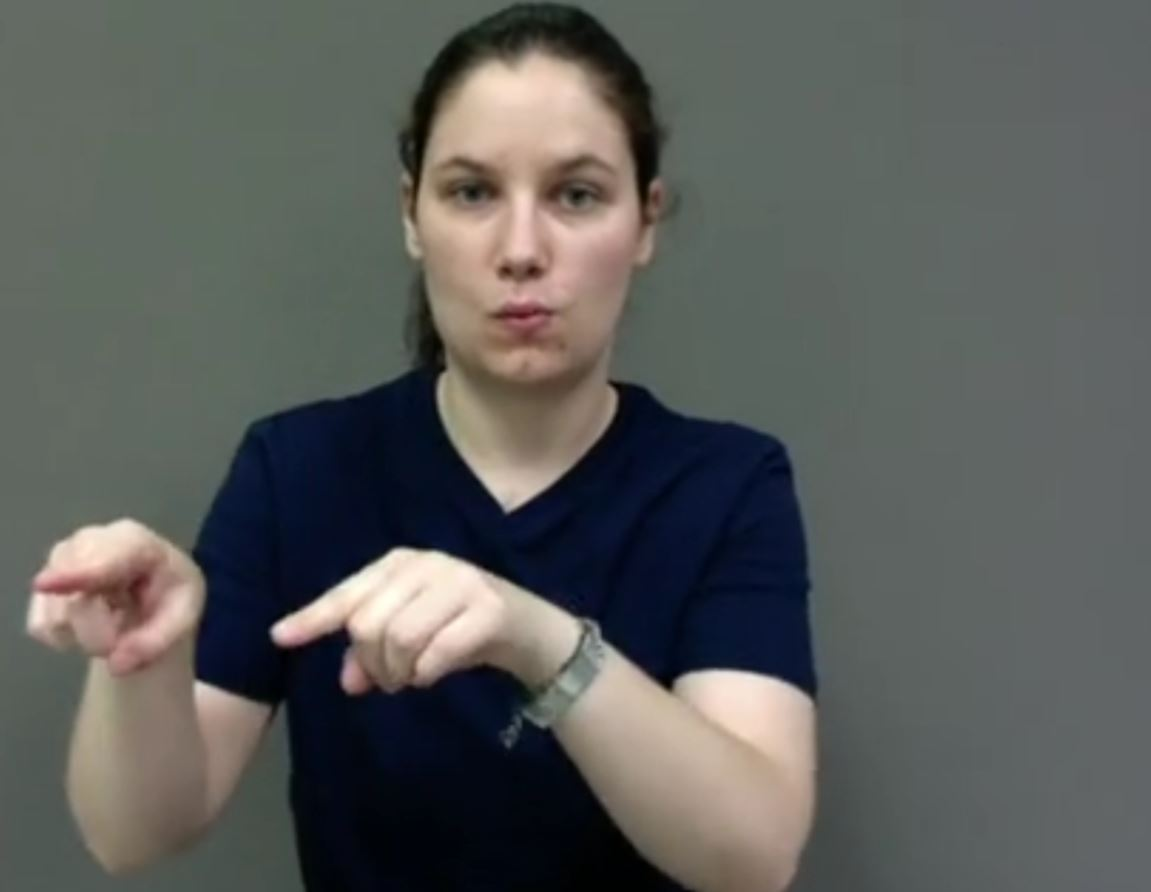go: (30, 510, 581, 748)
